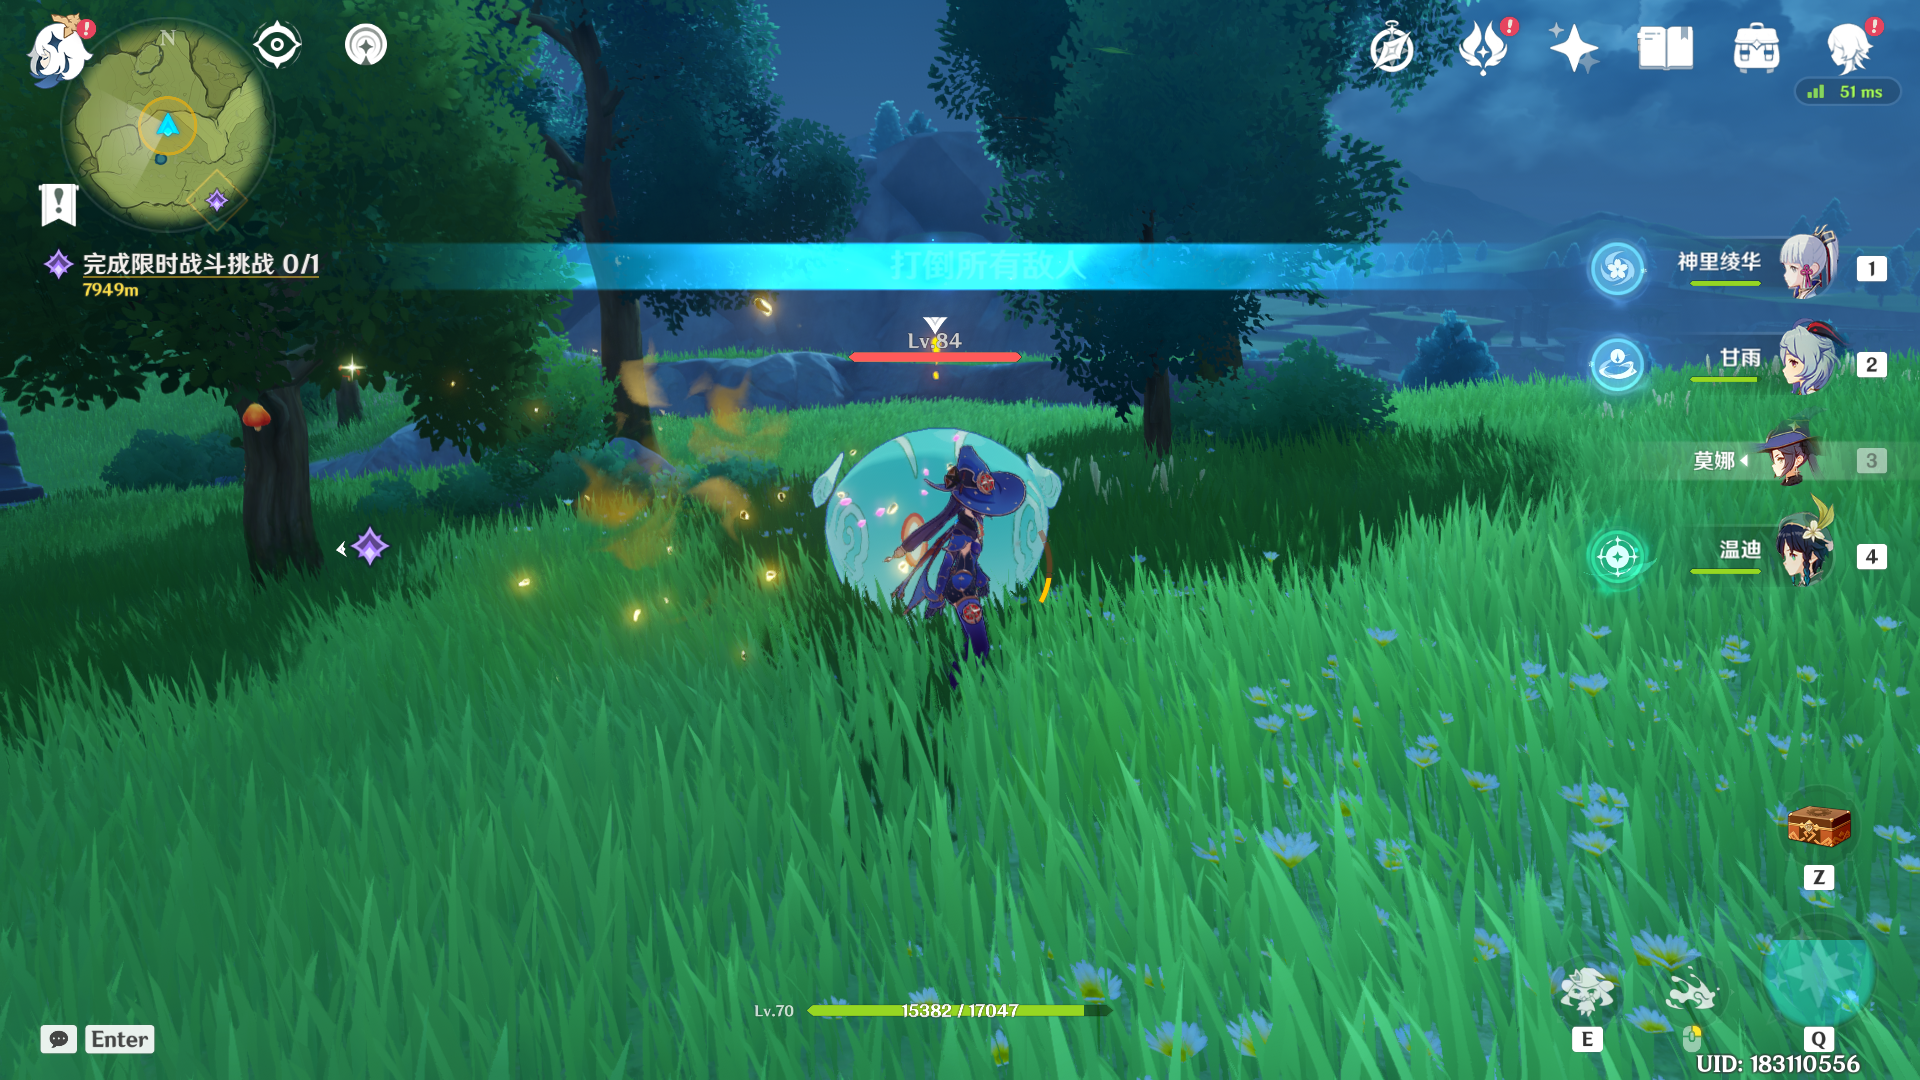character: (887, 454, 1040, 709)
slime: (790, 398, 1112, 625)
